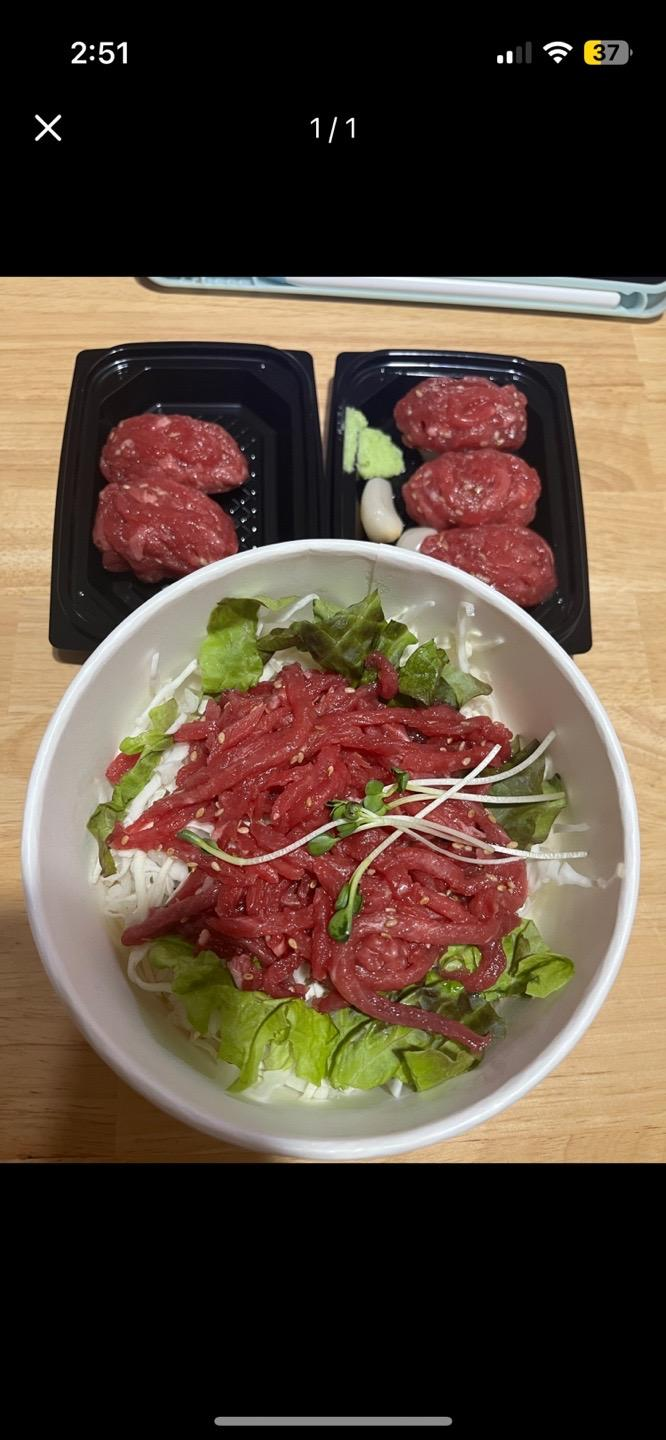Lunch Box: (23, 541, 637, 1157), (49, 342, 322, 650), (322, 350, 590, 654)
